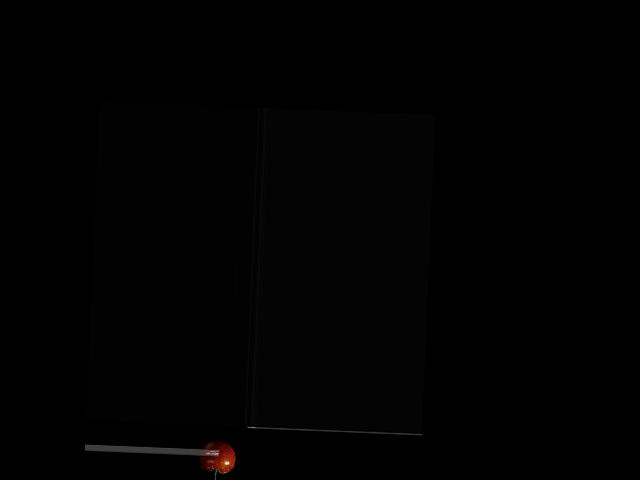tomato: (199, 441, 235, 473)
